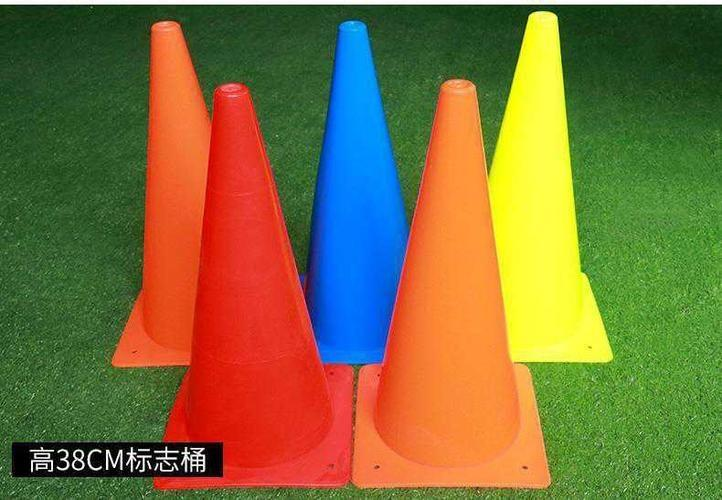cone_barrel: (171, 74, 333, 467), (374, 84, 539, 466), (485, 26, 612, 361), (301, 39, 412, 371), (119, 28, 218, 356)
